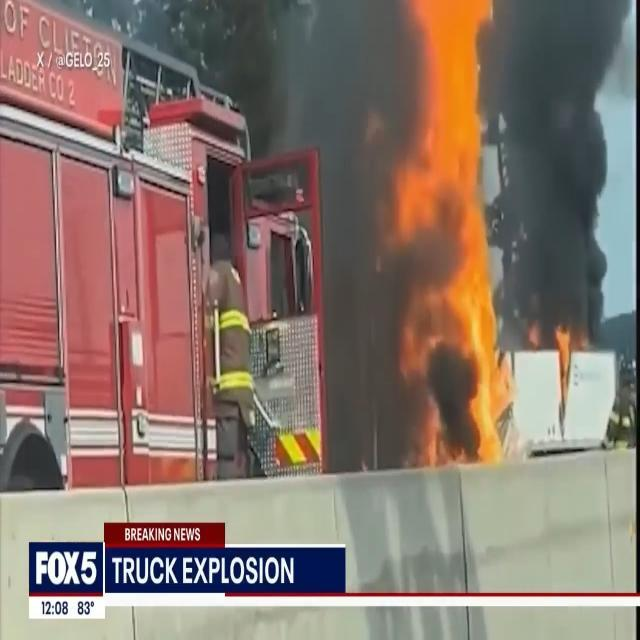fire: (410, 3, 507, 470), (270, 428, 312, 464)
